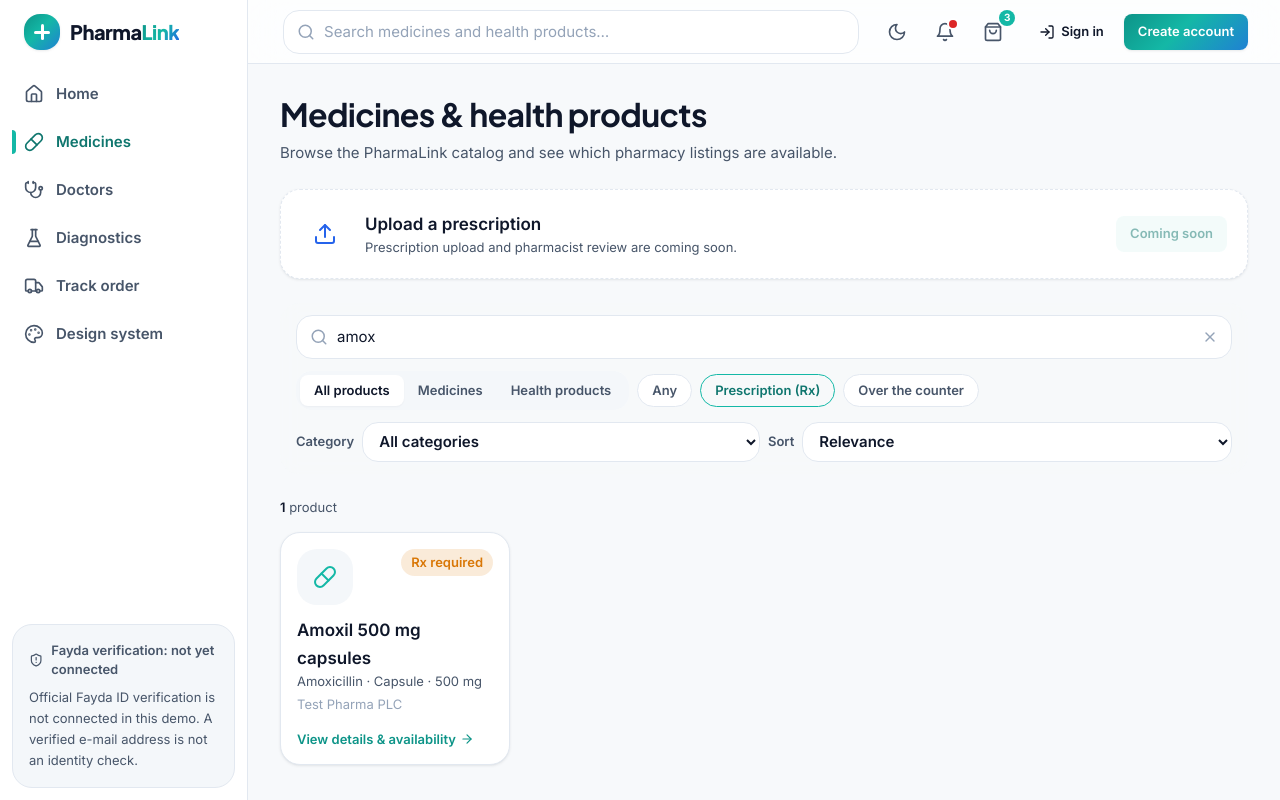
medicine listing › keeps the search context when going to a product and back
Click the link "Amoxil 500 mg capsules": (325, 577) [281, 534, 509, 764]
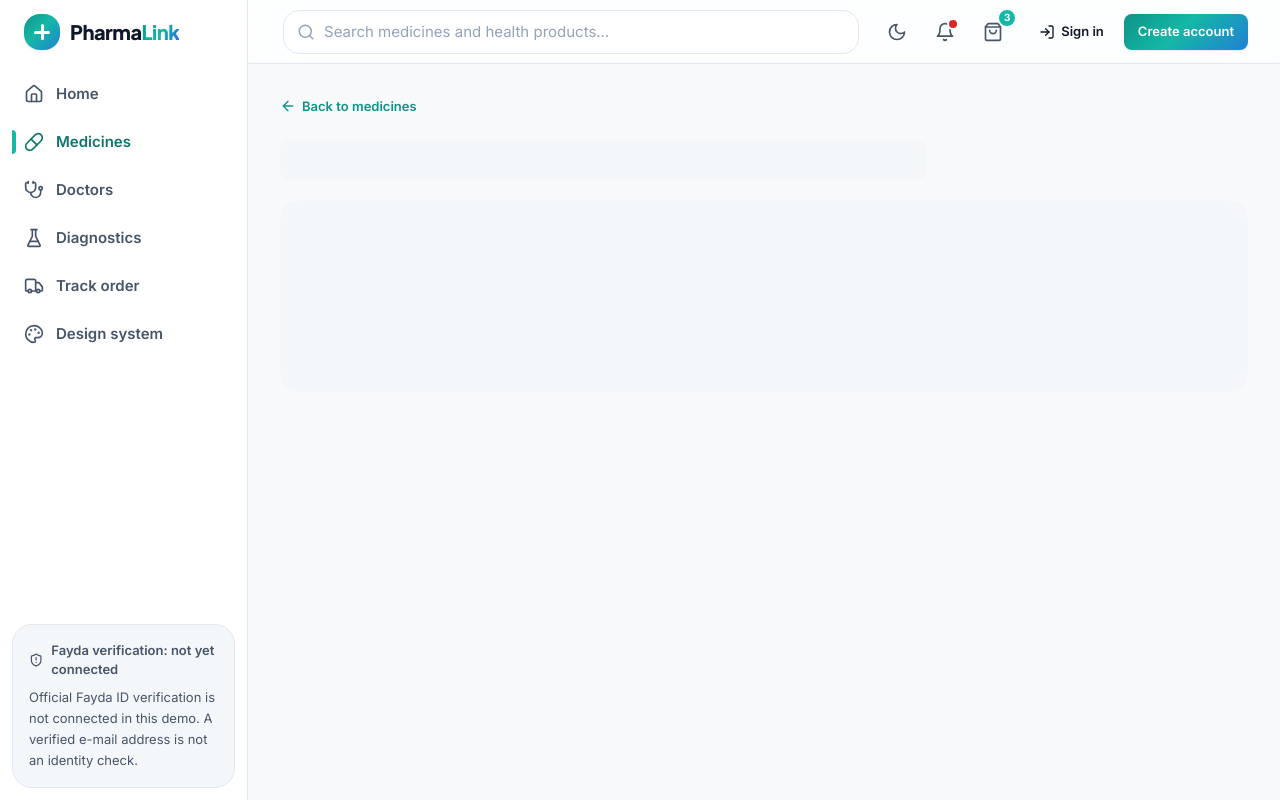
Click the link "Back to medicines": (348, 106) [280, 97, 417, 115]
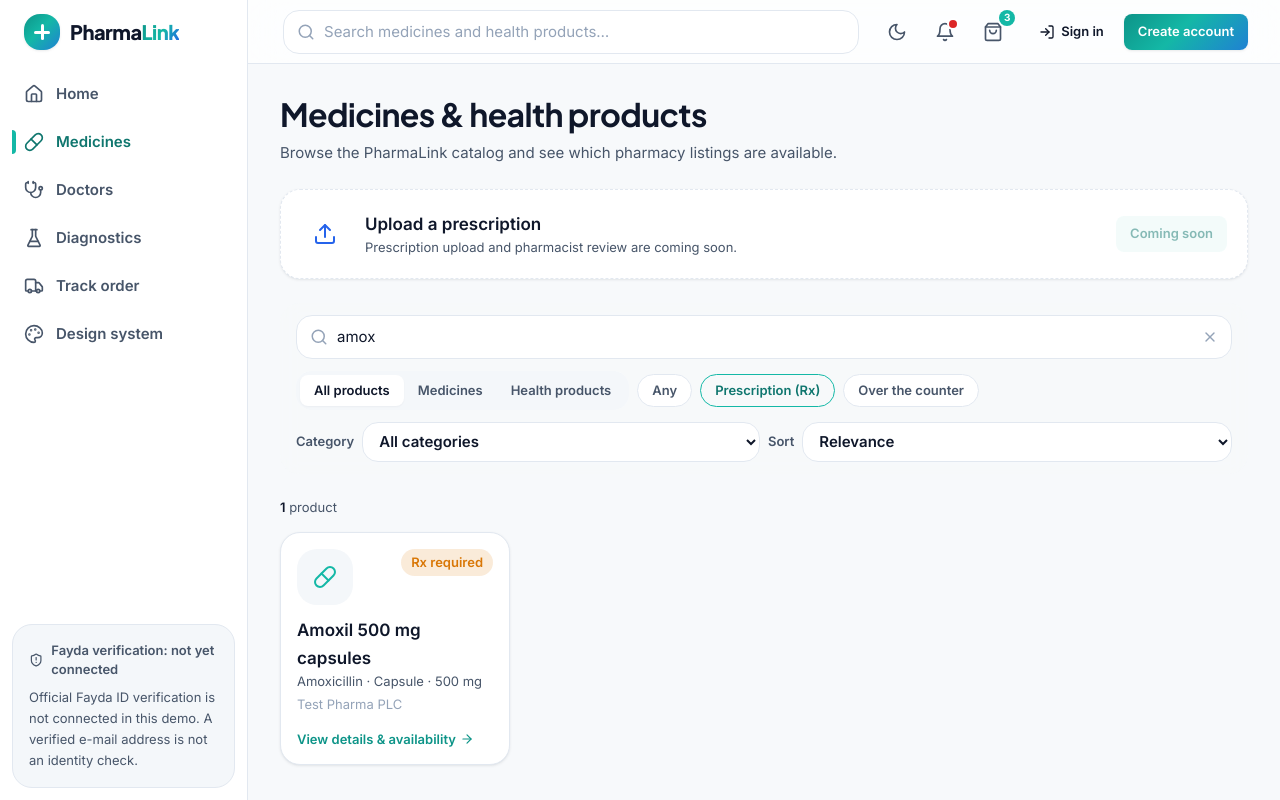
Now the search field named "Search products" holds "amox", box [296, 315, 1232, 359]
